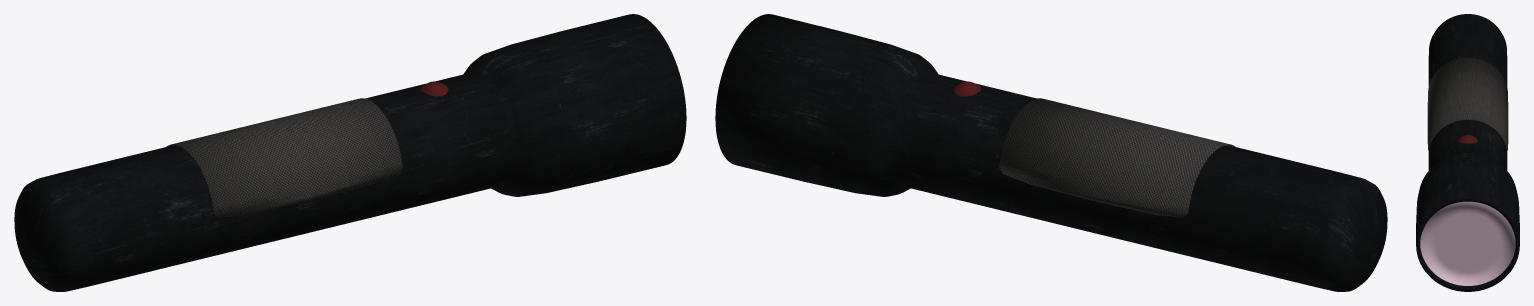
File: flashlight2.obj
3 views of the same model, side by side, from view 1: azimuth 30°, elevation 25°; view 2: azimuth 150°, elevation 25°; view 3: azimuth 270°, elevation 25° (orthographic). The views are drawn at different scales.
Visible parts, largest first — view 1: Cylinder, Cylinder.001_Cylinder.002; view 2: Cylinder, Cylinder.001_Cylinder.002; view 3: Cylinder, Cylinder.001_Cylinder.002, Sphere.
Boxes of the visible parts, left/top/right/bottom form: Cylinder: left=14, top=14, right=686, bottom=291; Cylinder.001_Cylinder.002: left=166, top=98, right=402, bottom=217; Cylinder: left=715, top=14, right=1387, bottom=291; Cylinder.001_Cylinder.002: left=999, top=98, right=1235, bottom=217; Cylinder: left=1416, top=14, right=1519, bottom=291; Cylinder.001_Cylinder.002: left=1427, top=57, right=1508, bottom=150; Sphere: left=1458, top=135, right=1477, bottom=143.
Size of the model in its own units: 4.39 by 0.9553 by 0.9553.
